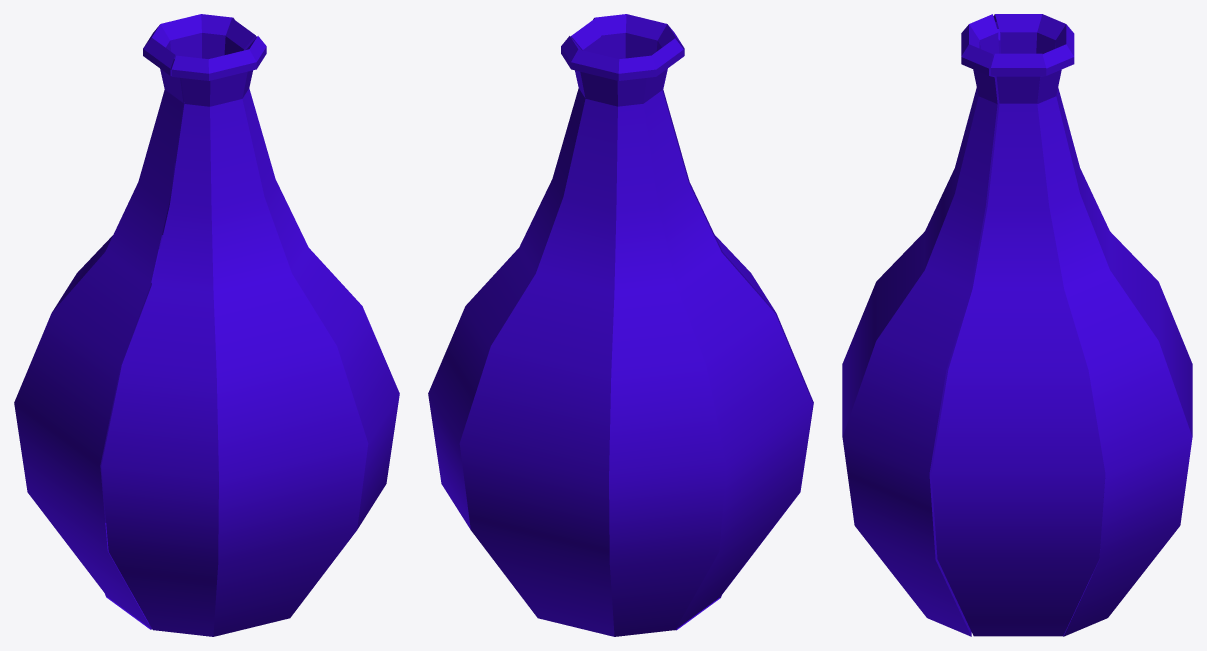
Rendered from Vase_2_Broken.fbx.
The picture shows the model from 3 angles, left to right: view 1: azimuth 30°, elevation 25°; view 2: azimuth 150°, elevation 25°; view 3: azimuth 270°, elevation 25°; orthographic projection.
Parts seen in each view (by area): view 1: polySurface243, polySurface244, polySurface242; view 2: polySurface244, polySurface243, polySurface242; view 3: polySurface242, polySurface244, polySurface243.
Boxes of the visible parts, <box> form: polySurface243: <box>101,36,399,636</box>; polySurface244: <box>14,14,234,627</box>; polySurface242: <box>105,18,256,629</box>; polySurface244: <box>428,36,812,636</box>; polySurface243: <box>593,14,813,593</box>; polySurface242: <box>570,19,722,630</box>; polySurface242: <box>931,53,1105,636</box>; polySurface244: <box>993,14,1192,636</box>; polySurface243: <box>842,14,999,636</box>.
Size of the model in its own units: 0.6265 by 1.12 by 0.63.
